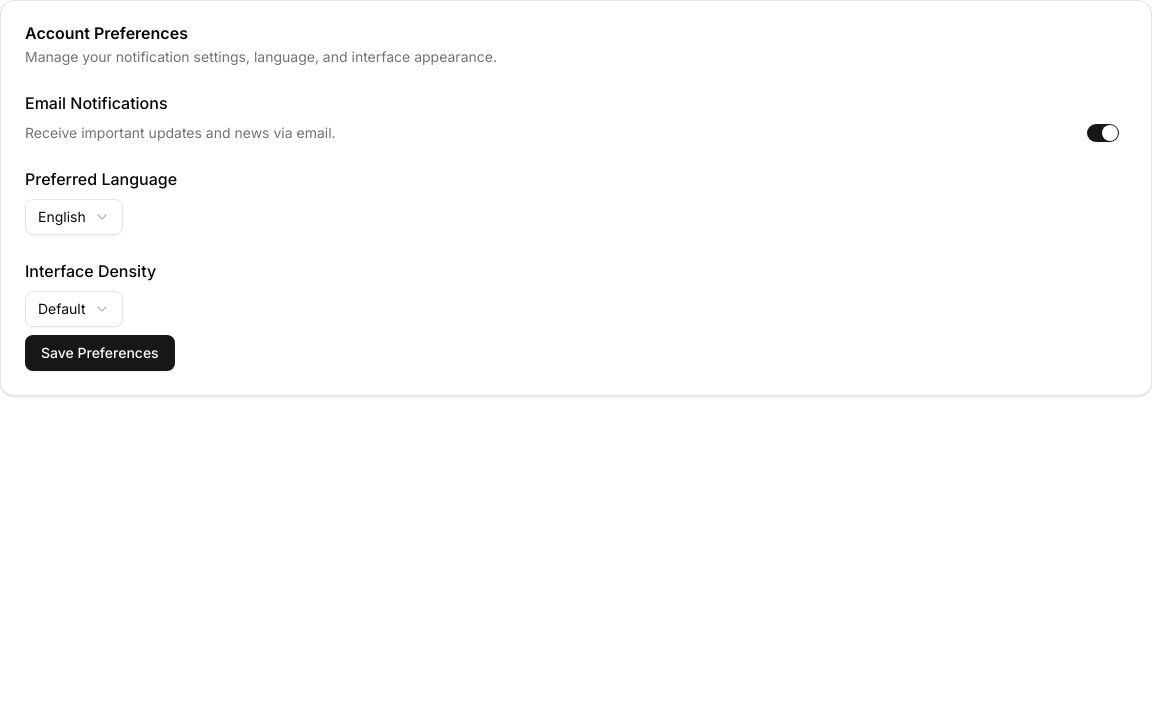
Profile Update Flow Integration › Account Preferences Update › should successfully update user preferences
Click the switch. click: (1103, 133)
box: [1087,124,1119,142]
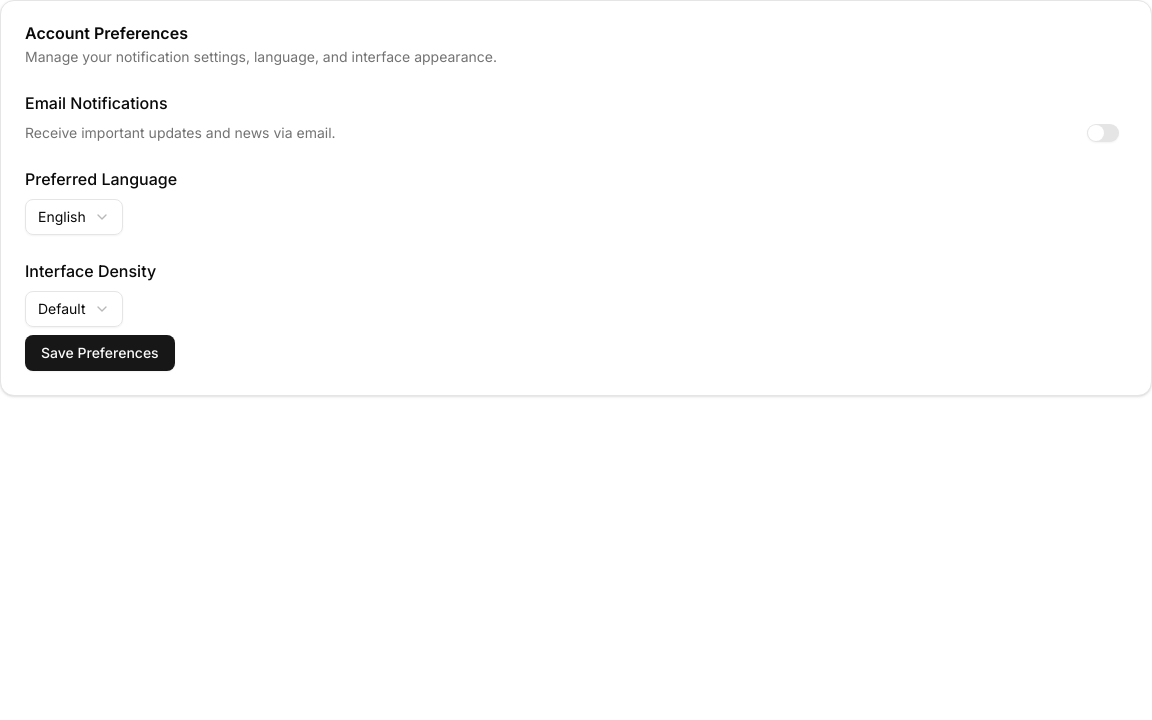
Click the button "Save Preferences". click: (100, 353)
box: [25,335,175,371]
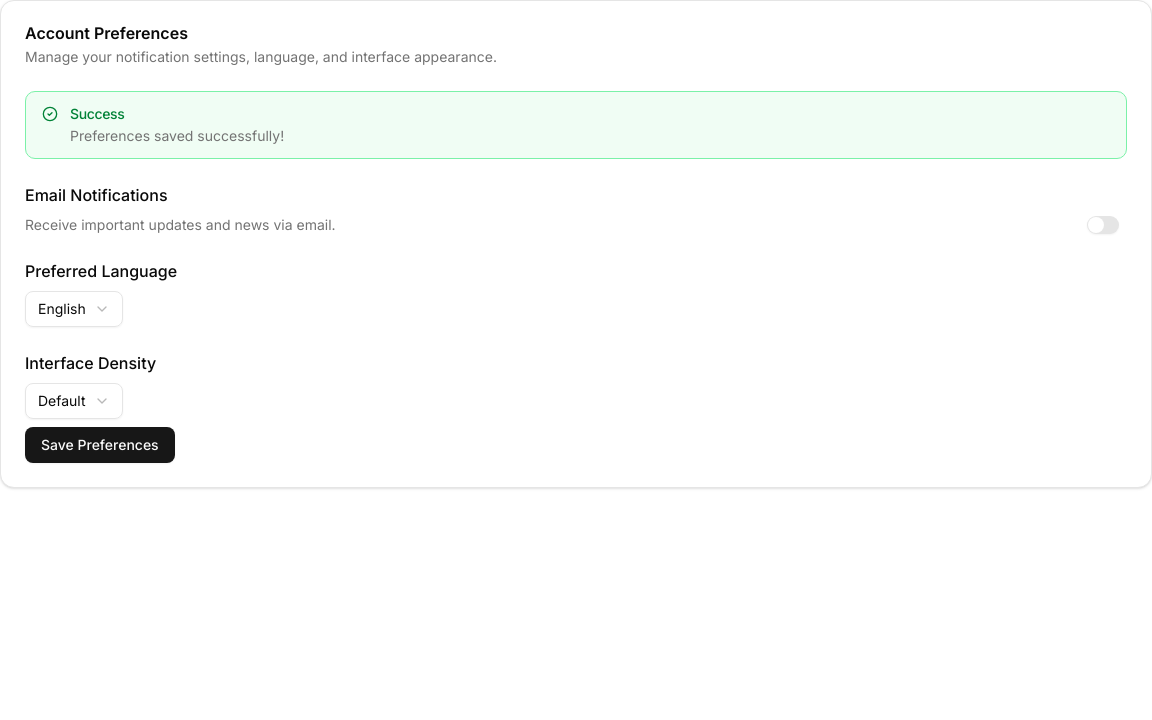
Check: the text "Preferences saved successfully!" is shown, box [70,127,284,144]
